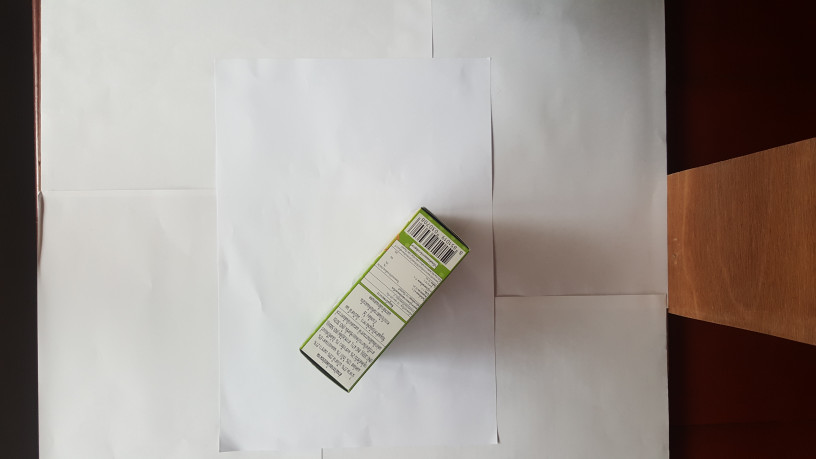collon-matcha: (295, 205, 469, 393)
